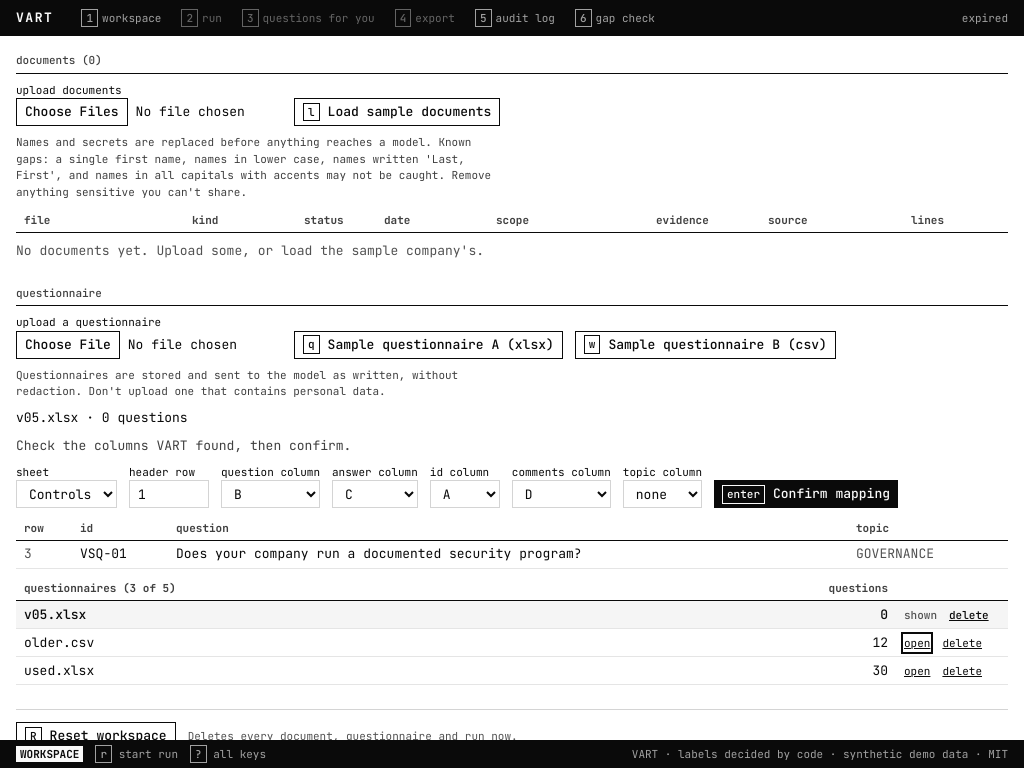
Test: Workspace › lists the questionnaires; the visitor chooses one and deletes another, and a refused delete says why
Press Enter
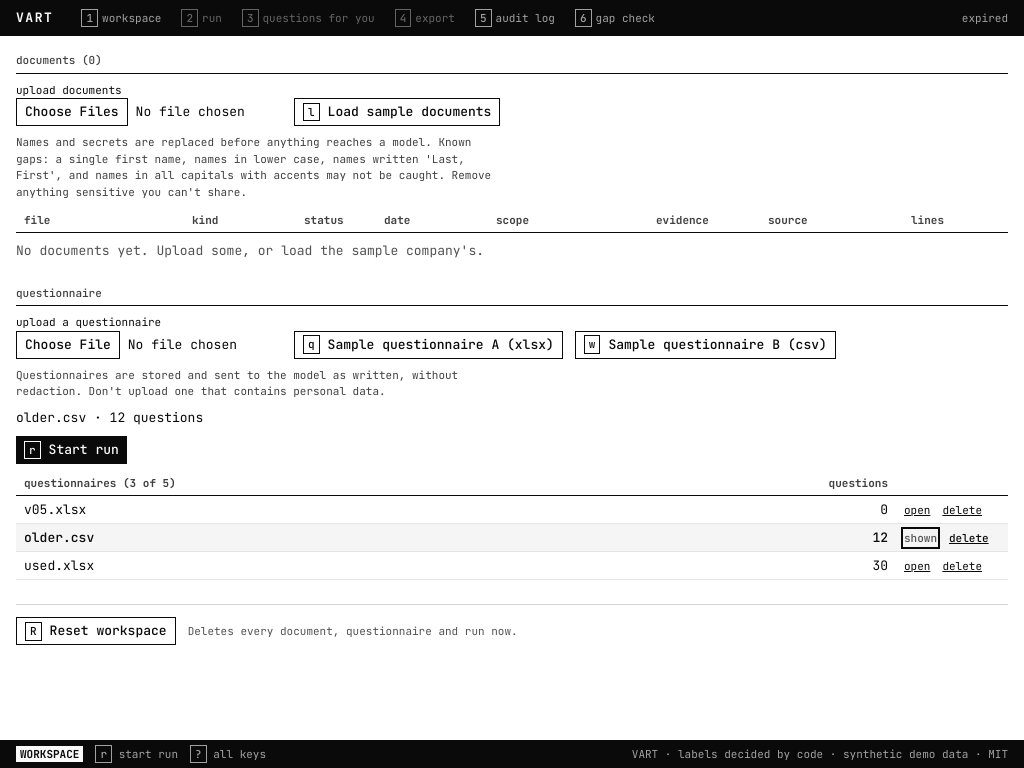
Now the text "12 questions" is shown, box [110,409,203,426]
Click the button with aria-label "Delete used.xlsx" at (962, 566), box [942,558,982,574]
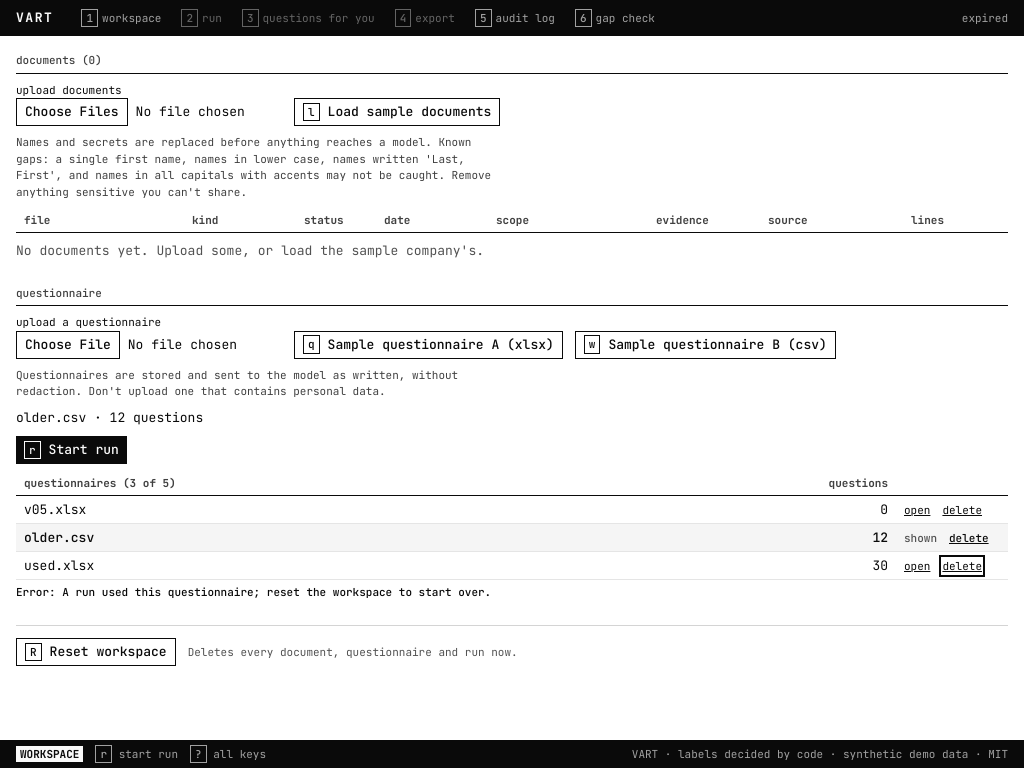
Expected: the row "used.xlsx 30 open delete" is shown, [16,552,1008,580]
Now the message reads "Error: A run used this questionnaire; reset the workspace to start over.", box [16,585,491,599]
Click the button with aria-label "Delete v05.xlsx" at (962, 510), box [942,502,982,518]
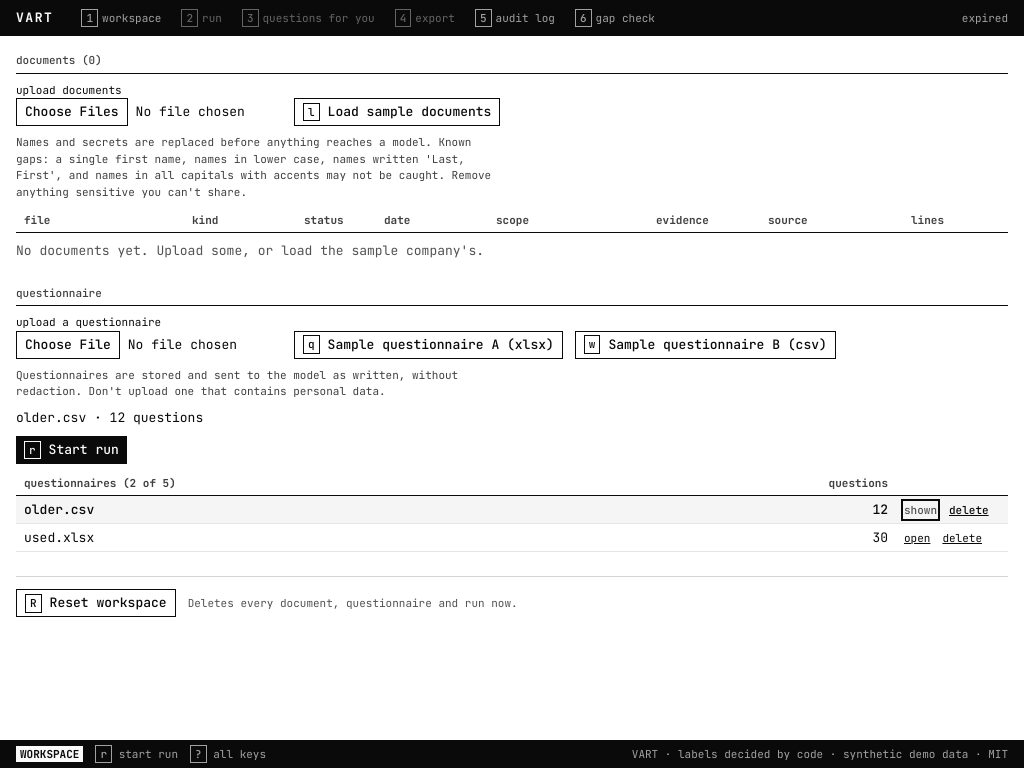
Now the table "questionnaires (2 of 5)" is shown, box [16,472,1008,552]
Now the cell "v05.xlsx" is gone
Now the message "Error: A run used this questionnaire; reset the workspace to start over." is gone
